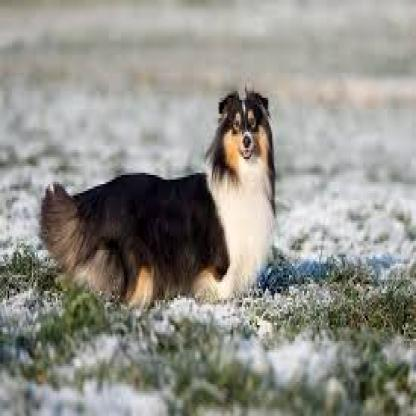Shetland sheepdog: (44, 83, 298, 326)
